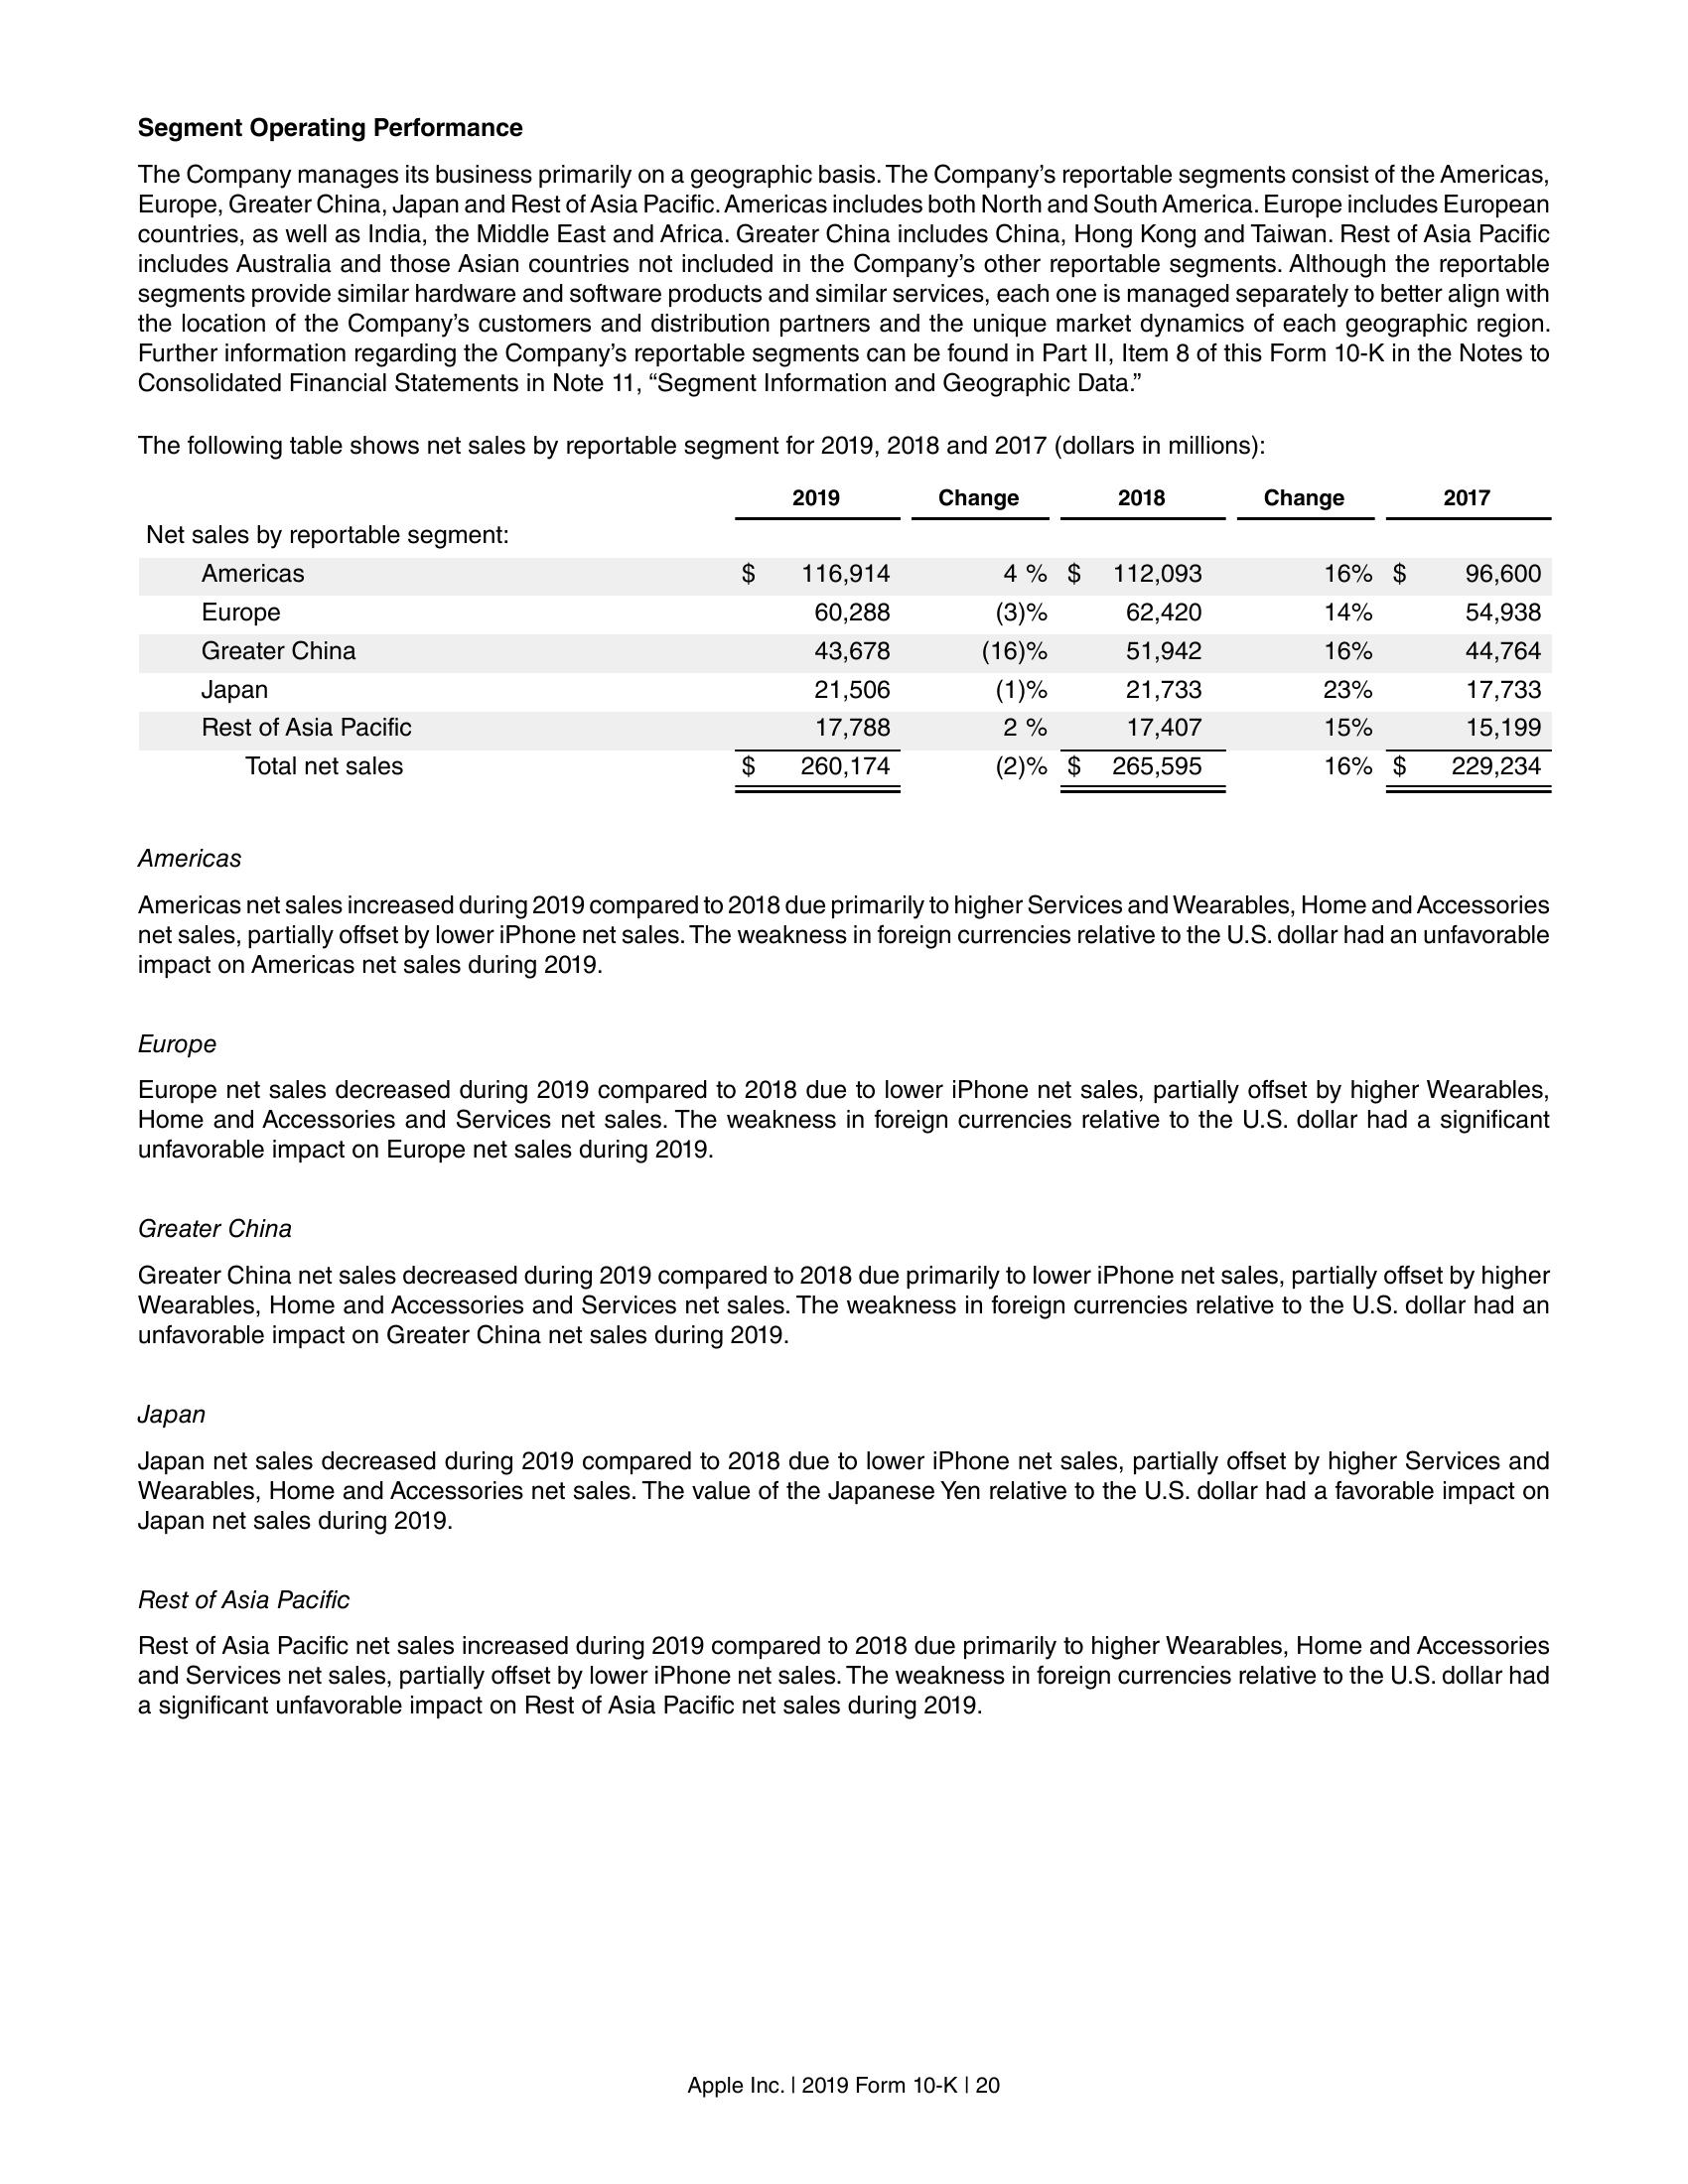table: (135, 477, 1559, 798)
